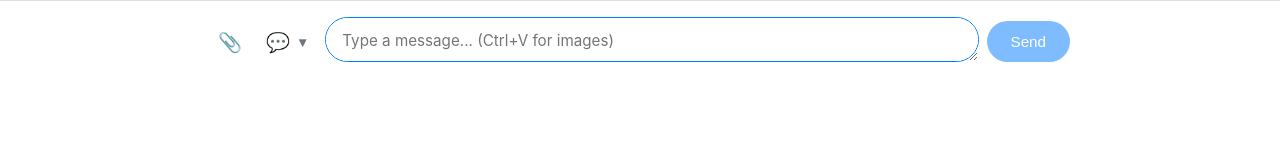
Test: MessageInput › disables send button when input is empty
Check: the button "Send" is disabled, box x1=986 y1=21 x2=1070 y2=62
Type "Hello" into the text box with placeholder "Type a message... (Ctrl+V for images)".
click(652, 40); type("Hello")  # box x1=325 y1=17 x2=979 y2=62
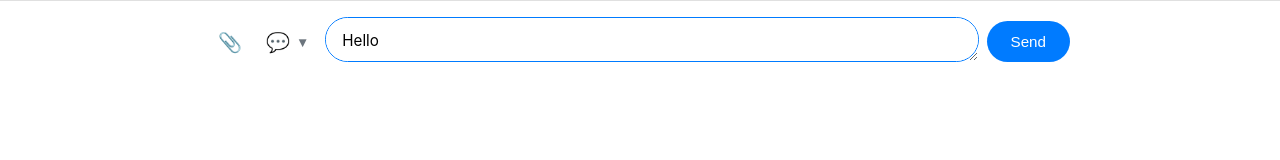
Check: the button "Send" is enabled, box x1=986 y1=21 x2=1070 y2=62
